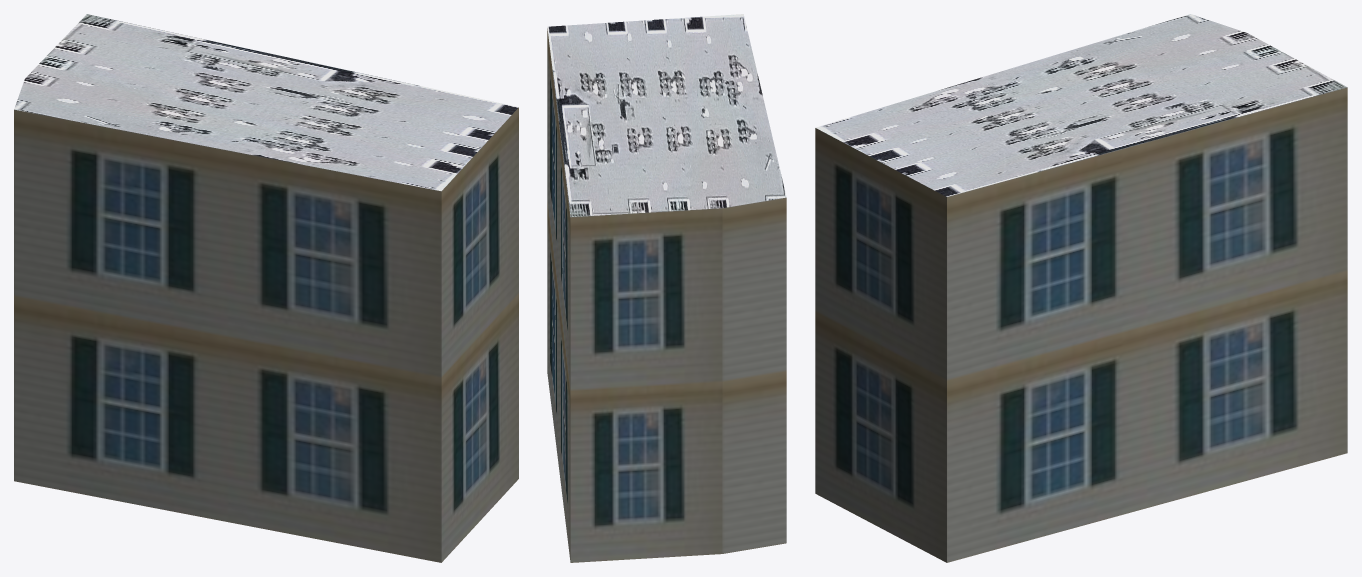
The model's file is ResTex__2509.fbx.
3 views of the same model, side by side, from view 1: azimuth 30°, elevation 25°; view 2: azimuth 150°, elevation 25°; view 3: azimuth 270°, elevation 25° (orthographic). The views are drawn at different scales.
Parts seen in each view (by area): view 1: CityEngineMaterial_7_m, CityEngineMaterial_4_m; view 2: CityEngineMaterial_7_m, CityEngineMaterial_4_m; view 3: CityEngineMaterial_7_m, CityEngineMaterial_4_m.
Boxes of the visible parts, left/top/right/bottom form: CityEngineMaterial_7_m: left=14, top=107, right=518, bottom=562; CityEngineMaterial_4_m: left=14, top=14, right=518, bottom=191; CityEngineMaterial_7_m: left=547, top=28, right=786, bottom=562; CityEngineMaterial_4_m: left=547, top=14, right=786, bottom=216; CityEngineMaterial_7_m: left=815, top=87, right=1347, bottom=562; CityEngineMaterial_4_m: left=815, top=14, right=1346, bottom=196.
Bounding box in the file's own units: 6.44 × 6 × 7.91.
Materials: 2 (2 with a texture image).
